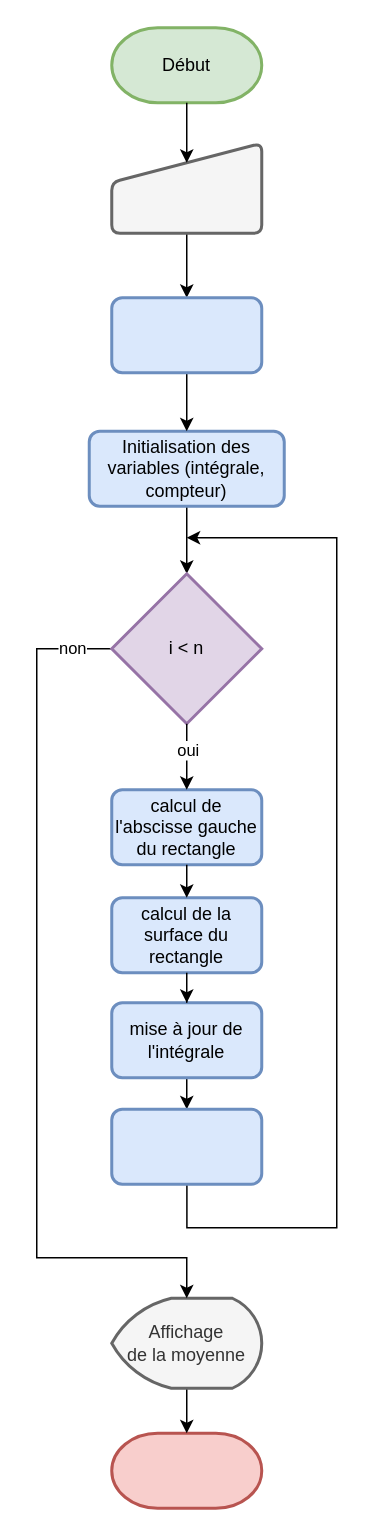
Some shapes in this 375 by 1535 pixel diagram are drawn without their labels. The shapes that lost their labels are listed below. From the top down, each one's box as (x1, y1, x2, y2) in pixels, then its label:
(110, 141, 262, 234): saisie de a, b et n
(110, 296, 262, 374): calcul de la base
(110, 1107, 262, 1185): incrémentation du compteur
(110, 1431, 262, 1509): Fin
